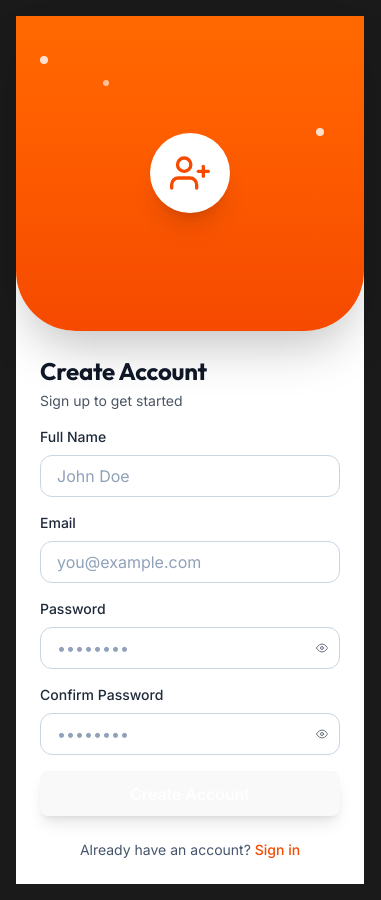
it: Register › displays password validation error for short password
This screenshot has width=381, height=900.
Type "12345" into the password field labelled "Password" at (190, 648), box 40,627 -> 340,669
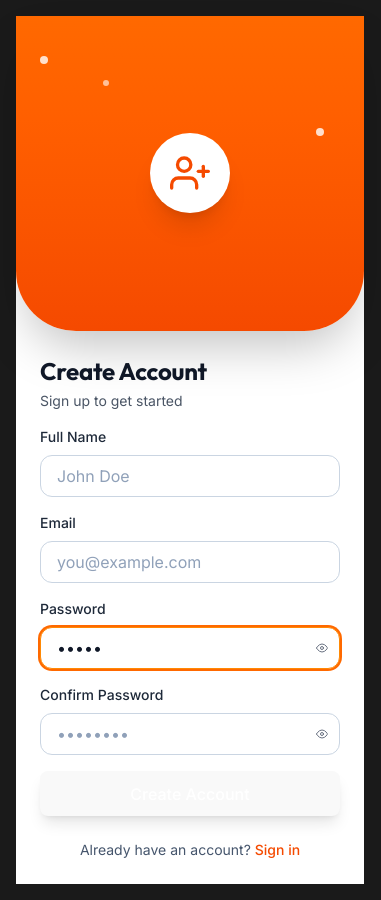
Click the button "Create Account" at (190, 794), box 40,771 -> 340,816
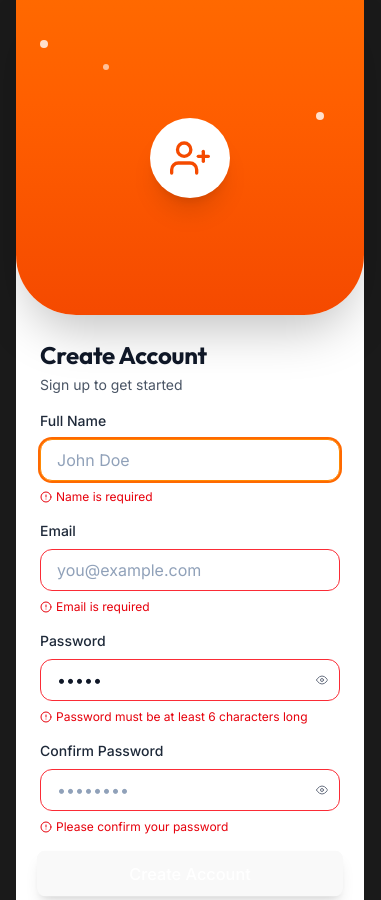
Expected: the text "Password must be at least 6 characters long" is shown, 56,709 -> 308,725
